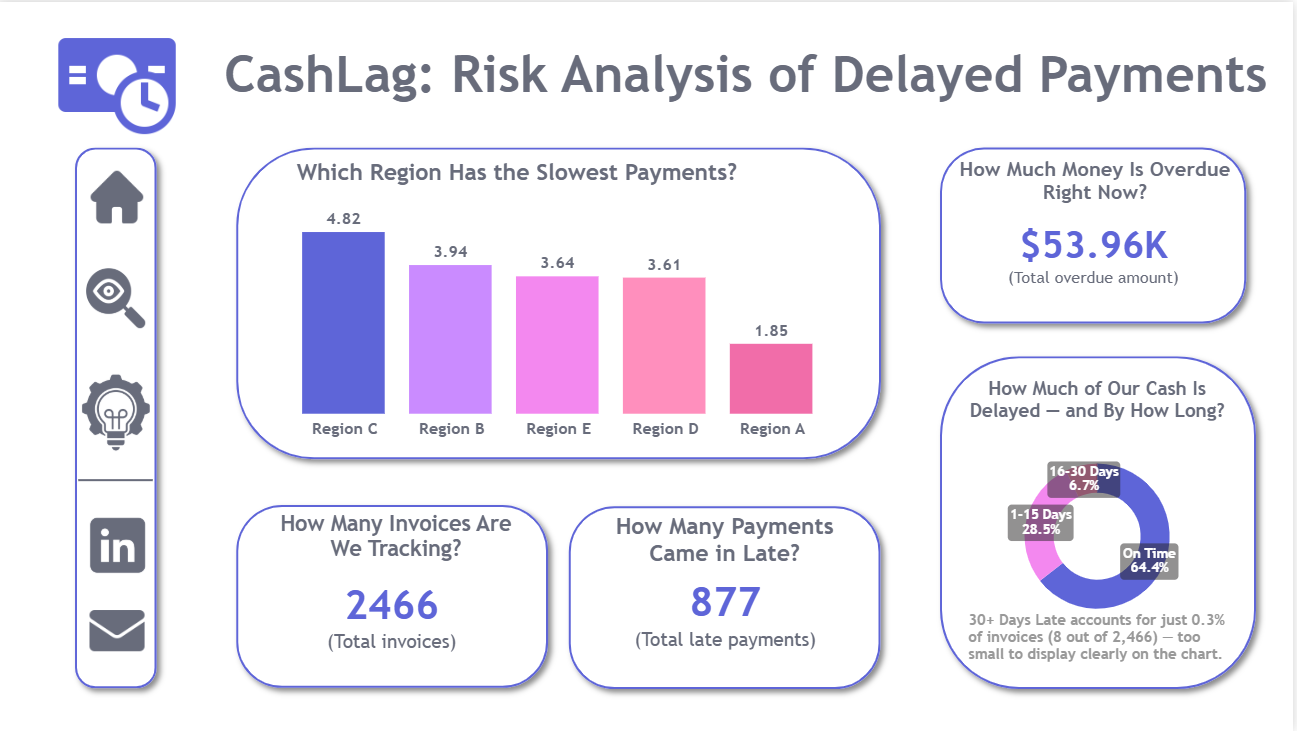

This screenshot's page, from the dashboard's own definition file:
{"tool":"powerbi","page":{"name":"Risk Overview","canvas":[1280,720],"ordinal":1},"visuals":[{"type":"shape","box":[920.5,132.9,323.3,194.5],"z":0},{"type":"shape","box":[226,132.9,657.5,328.8],"z":1000},{"type":"shape","box":[226,486.3,328.8,201.4],"z":2000},{"type":"shape","box":[554.8,487.7,328.8,201.4],"z":3000},{"type":"shape","box":[67.1,132.9,101.4,554.8],"z":4000},{"type":"shape","box":[920.5,339.7,332.9,349.3],"z":5000},{"type":"donutChart","fields":{"Y":["CountNonNull(Accounts_receivables_data(in).agining bucket)"],"Category":["Accounts_receivables_data(in).agining bucket"]},"box":[929.8,427.4,314.3,201.2],"z":6000},{"type":"columnChart","fields":{"Series":["Accounts_receivables_data(in).Region"],"Category":["Accounts_receivables_data(in).Region"],"Y":["Accounts_receivables_data(in).Avg days late"]},"box":[254.8,186.3,601.4,253.4],"z":7000},{"type":"cardVisual","fields":{"Data":["Accounts_receivables_data(in).total late payments"]},"box":[595.9,528.8,246.6,152.1],"z":8000},{"type":"cardVisual","fields":{"Data":["Accounts_receivables_data(in).Total invoices"]},"box":[235.6,528.8,308.2,157.5],"z":9000},{"type":"cardVisual","fields":{"Data":["Accounts_receivables_data(in).Total overdue amount"]},"box":[928.8,161.6,309.6,175.3],"z":10000},{"type":"textbox","title":"How Much Money Is Overdue Right Now?","box":[942.5,153.4,284.9,45.2],"z":11000},{"type":"textbox","title":"Which Region Has the Slowest Payments?","box":[276.7,154.8,474,43.8],"z":12000},{"type":"textbox","title":"How Many Invoices Are We Tracking?","box":[261.6,502.7,264.4,50.7],"z":13000},{"type":"textbox","title":"How Much of Our Cash Is Delayed — and By How Long?","box":[954.8,369.9,264.4,50.7],"z":14000},{"type":"textbox","title":"How Many Payments Came in Late?","box":[586.3,504.1,264.4,50.7],"z":15000},{"type":"textbox","title":"CashLag: Risk Analysis of Delayed Payments","box":[213.7,42.5,1052.1,72.6],"z":16000},{"type":"image","box":[19.2,24.7,197.3,116.4],"z":17000},{"type":"image","box":[87.7,167.1,61.6,52.1],"z":18000},{"type":"image","box":[86.3,263,61.6,58.9],"z":19000},{"type":"image","box":[79.5,354.8,76.7,102.7],"z":20000},{"type":"shape","box":[80.8,441.1,74,63],"z":21000},{"type":"image","box":[91.8,589,54.8,64.4],"z":22000},{"type":"image","box":[87.7,505.5,63,63],"z":23000},{"type":"textbox","title":"30+ Days Late accounts for just 0.3% of invoices (8 out of 2,466) — too small to display clearly on the chart.","box":[954.8,601.2,275,52.4],"z":23001}]}

Visuals, with their boxes in screenshot pixels (x1, y1, x2, y2), scaled from the page's 1280x720 canvas onto the 1297x731 screenshot:
shape: crop(933, 135, 1260, 332)
shape: crop(229, 135, 895, 469)
shape: crop(229, 494, 562, 698)
shape: crop(562, 495, 895, 700)
shape: crop(68, 135, 171, 698)
shape: crop(933, 345, 1270, 700)
donutChart - CountNonNull(Accounts_receivables_data(in).agining bucket) x Accounts_receivables_data(in).agining bucket: crop(942, 434, 1261, 638)
columnChart - Accounts_receivables_data(in).Region x Accounts_receivables_data(in).Region: crop(258, 189, 868, 446)
cardVisual - Accounts_receivables_data(in).total late payments: crop(604, 537, 854, 691)
cardVisual - Accounts_receivables_data(in).Total invoices: crop(239, 537, 551, 697)
cardVisual - Accounts_receivables_data(in).Total overdue amount: crop(941, 164, 1255, 342)
"How Much Money Is Overdue Right Now?" textbox: crop(955, 156, 1244, 202)
"Which Region Has the Slowest Payments?" textbox: crop(280, 157, 761, 202)
"How Many Invoices Are We Tracking?" textbox: crop(265, 510, 533, 562)
"How Much of Our Cash Is Delayed — and By How Long?" textbox: crop(967, 376, 1235, 427)
"How Many Payments Came in Late?" textbox: crop(594, 512, 862, 563)
"CashLag: Risk Analysis of Delayed Payments" textbox: crop(217, 43, 1283, 117)
image: crop(19, 25, 219, 143)
image: crop(89, 170, 151, 223)
image: crop(87, 267, 150, 327)
image: crop(81, 360, 158, 464)
shape: crop(82, 448, 157, 512)
image: crop(93, 598, 149, 663)
image: crop(89, 513, 153, 577)
"30+ Days Late accounts for just 0.3% of invoices (8 out of 2,466) — too small to display clearly on the chart." textbox: crop(967, 610, 1246, 664)
